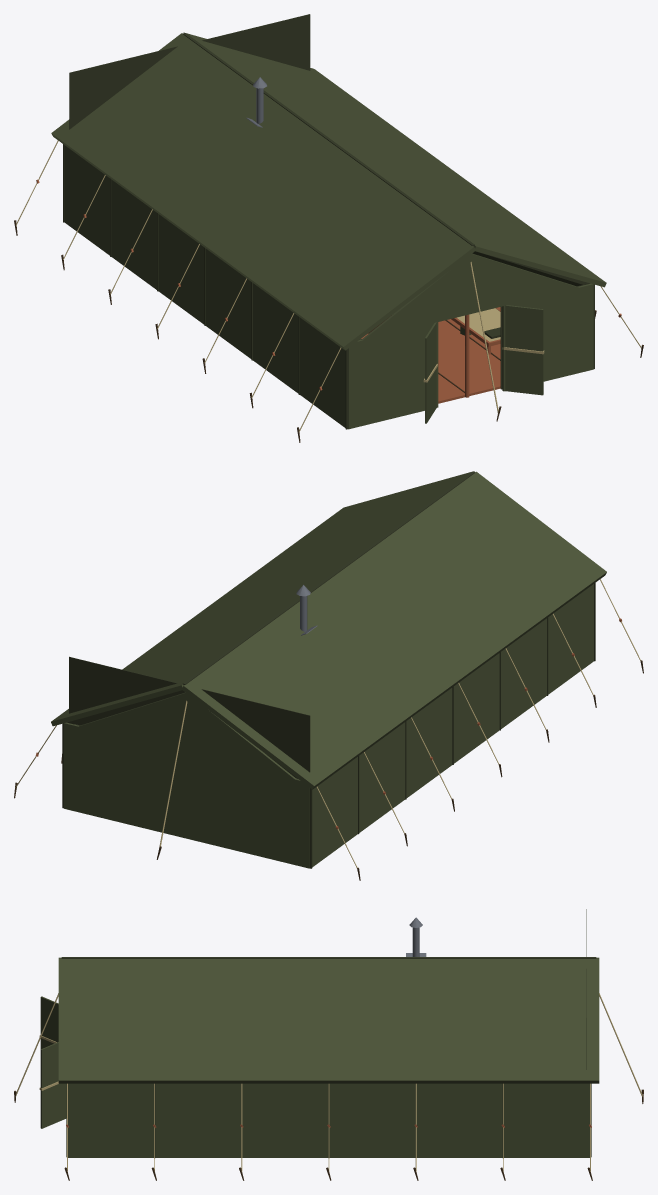
The model's file is medium-barracks-tent.glb.
The picture shows the model from 3 angles, top to bottom: view 1: azimuth 30°, elevation 25°; view 2: azimuth 150°, elevation 25°; view 3: azimuth 270°, elevation 25°; orthographic projection. The views are drawn at different scales.
Parts seen in each view (by area): view 1: Mesh_OuterRoofA, Mesh_RightWall_Outer, Mesh_OuterRoofB, Mesh_FrontWall_R, Mesh_FrontGable_Canvas, Mesh_BackGable_Inner, Mesh_FrontWall_L, Mesh_WoodFloor, Mesh_DoorFlap_L, Mesh_RidgeCap, Mesh_DoorFlap_R, Mesh_Cot_L3_Mattress; view 2: Mesh_OuterRoofA, Mesh_RightWall_Outer, Mesh_BackWall_Lower, Mesh_OuterRoofB, Mesh_BackGable_Inner, Mesh_BackGable_Canvas, Mesh_RidgeCap; view 3: Mesh_OuterRoofB, Mesh_LeftWall_Outer, Mesh_DoorFlap_L, Mesh_RidgeCap, Mesh_DoorFlap_R.
Boxes of the visible parts, <box> form: Mesh_OuterRoofA: <box>51,33,475,350</box>; Mesh_RightWall_Outer: <box>64,145,345,427</box>; Mesh_OuterRoofB: <box>183,32,606,287</box>; Mesh_FrontWall_R: <box>348,322,438,429</box>; Mesh_FrontGable_Canvas: <box>362,253,578,340</box>; Mesh_BackGable_Inner: <box>69,14,310,129</box>; Mesh_FrontWall_L: <box>502,283,593,391</box>; Mesh_WoodFloor: <box>361,307,500,403</box>; Mesh_DoorFlap_L: <box>505,305,543,395</box>; Mesh_RidgeCap: <box>183,33,474,246</box>; Mesh_DoorFlap_R: <box>425,322,436,423</box>; Mesh_Cot_L3_Mattress: <box>457,308,500,341</box>; Mesh_OuterRoofA: <box>181,471,606,789</box>; Mesh_RightWall_Outer: <box>312,584,593,867</box>; Mesh_BackWall_Lower: <box>64,722,309,868</box>; Mesh_OuterRoofB: <box>51,471,474,726</box>; Mesh_BackGable_Inner: <box>69,656,310,777</box>; Mesh_BackGable_Canvas: <box>79,692,295,779</box>; Mesh_RidgeCap: <box>183,471,475,685</box>; Mesh_OuterRoofB: <box>58,958,599,1083</box>; Mesh_LeftWall_Outer: <box>68,1083,589,1157</box>; Mesh_DoorFlap_L: <box>40,1042,66,1128</box>; Mesh_RidgeCap: <box>61,957,596,958</box>; Mesh_DoorFlap_R: <box>40,996,58,1048</box>.
Size of the model in its own units: 6.34 by 3.35 by 10.84.
Materials: 4 (4 with a texture image).
